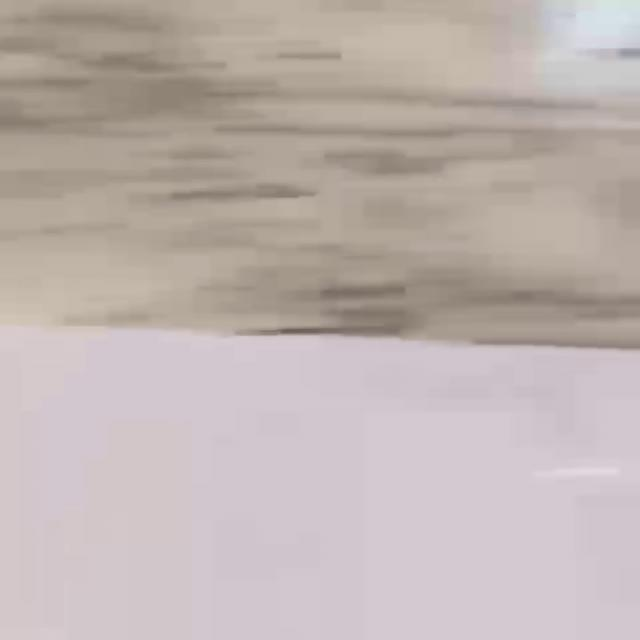road: (2, 329, 639, 640)
